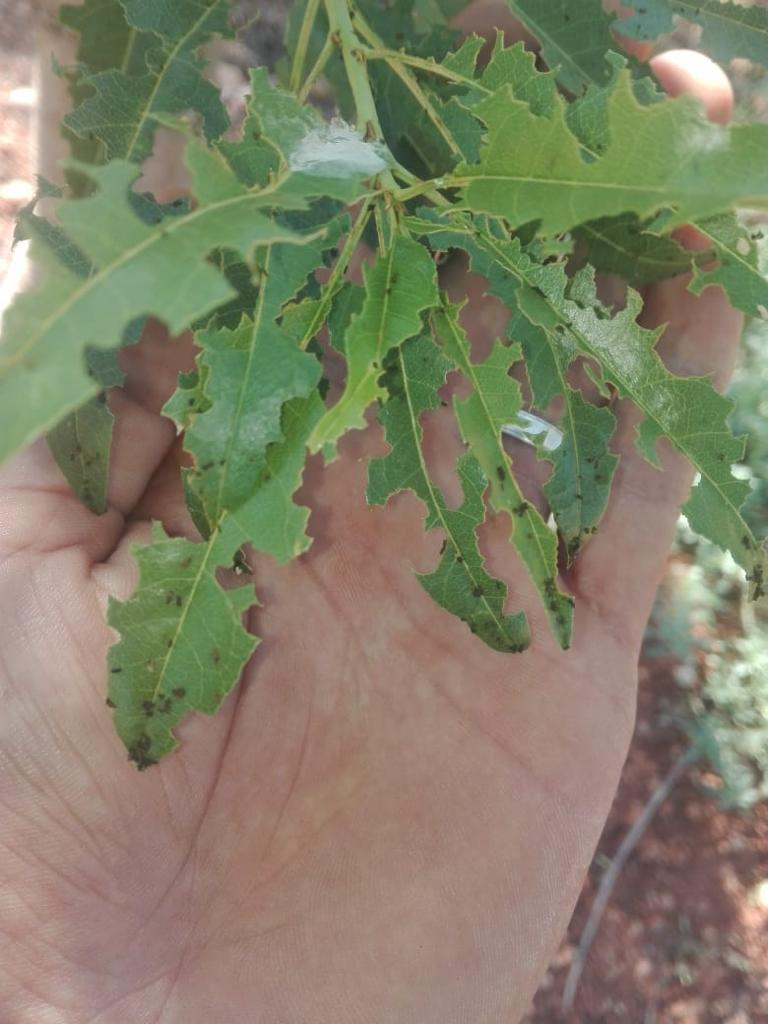othyorinques: (493, 239, 768, 556), (455, 68, 768, 239), (429, 298, 576, 650), (303, 225, 440, 457)
